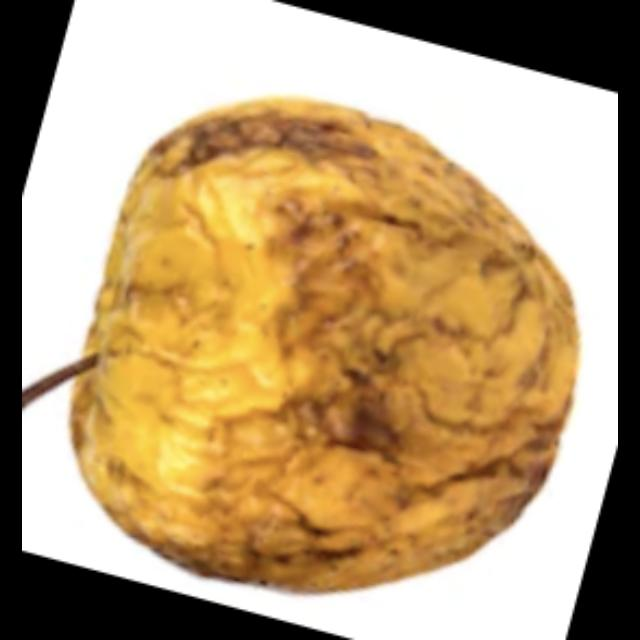Apel Tidak Segar: (59, 95, 586, 593)
